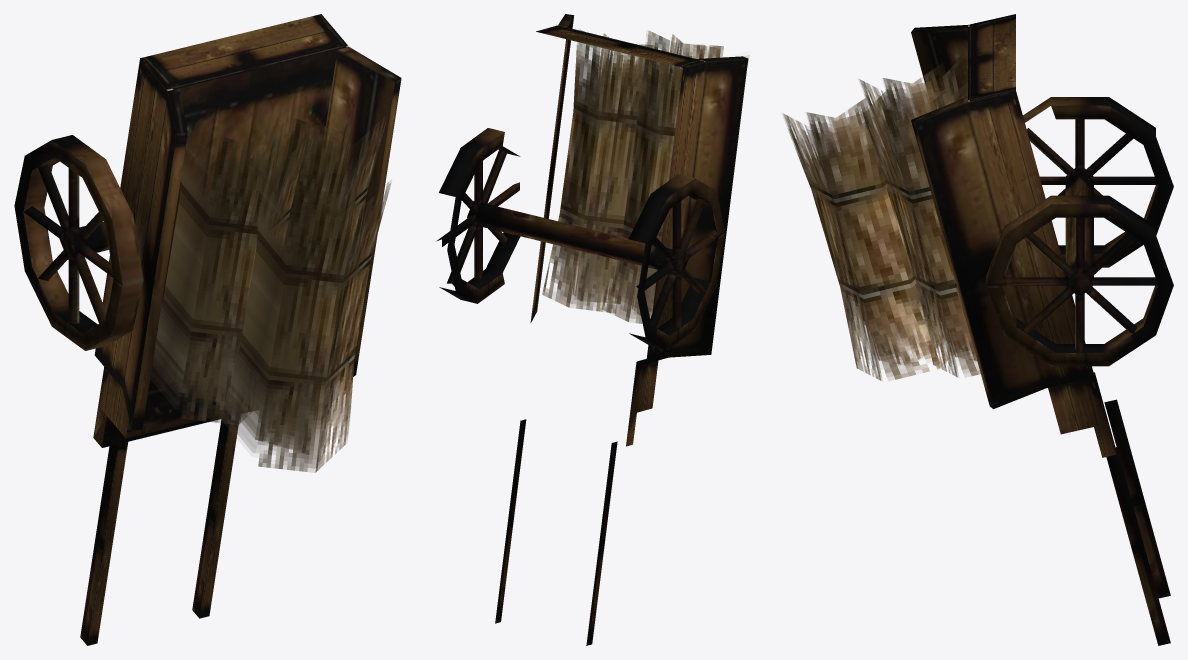
The picture shows the model from 3 angles, left to right: view 1: azimuth 30°, elevation 25°; view 2: azimuth 150°, elevation 25°; view 3: azimuth 270°, elevation 25°; orthographic projection. The views are drawn at different scales.
Visible parts, largest first — view 1: model_Object76; view 2: model_Object76; view 3: model_Object76.
Part boxes in pixels (x1,y1,x2,y2): model_Object76: (14, 14, 401, 645); model_Object76: (436, 14, 749, 645); model_Object76: (782, 14, 1173, 645).
Bounding box in the file's own units: 1.79 × 4.37 × 2.74.
Materials: 2 (2 with a texture image).
